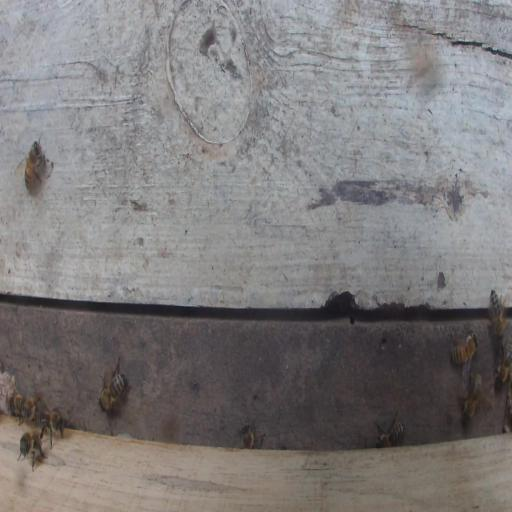Insects: (98, 357, 129, 412), (36, 407, 65, 447), (449, 330, 479, 366), (375, 414, 405, 448), (489, 287, 507, 340), (463, 372, 481, 419), (24, 140, 41, 189), (497, 339, 512, 387), (20, 431, 44, 457), (23, 396, 46, 418), (241, 423, 254, 449), (11, 394, 26, 412)
